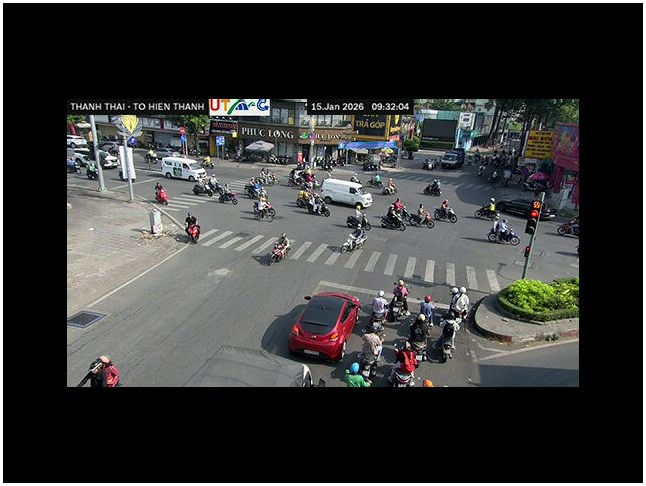car: (287, 292, 361, 362), (321, 177, 373, 208), (161, 156, 207, 182)
motorbike: (293, 189, 330, 216), (486, 216, 519, 244), (341, 229, 367, 252), (252, 199, 275, 221)
